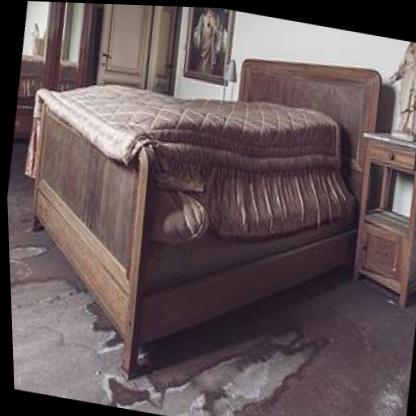Bed: (0, 9, 394, 415)
